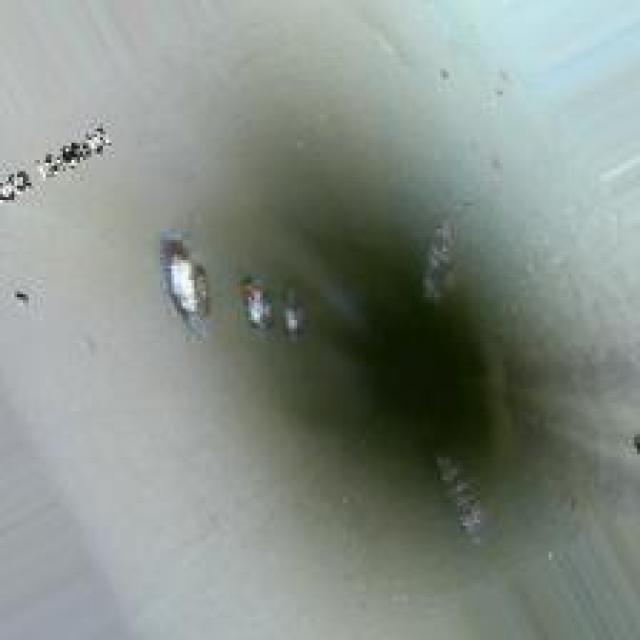ferrule: (154, 237, 217, 329), (234, 274, 269, 334), (280, 286, 306, 340)
